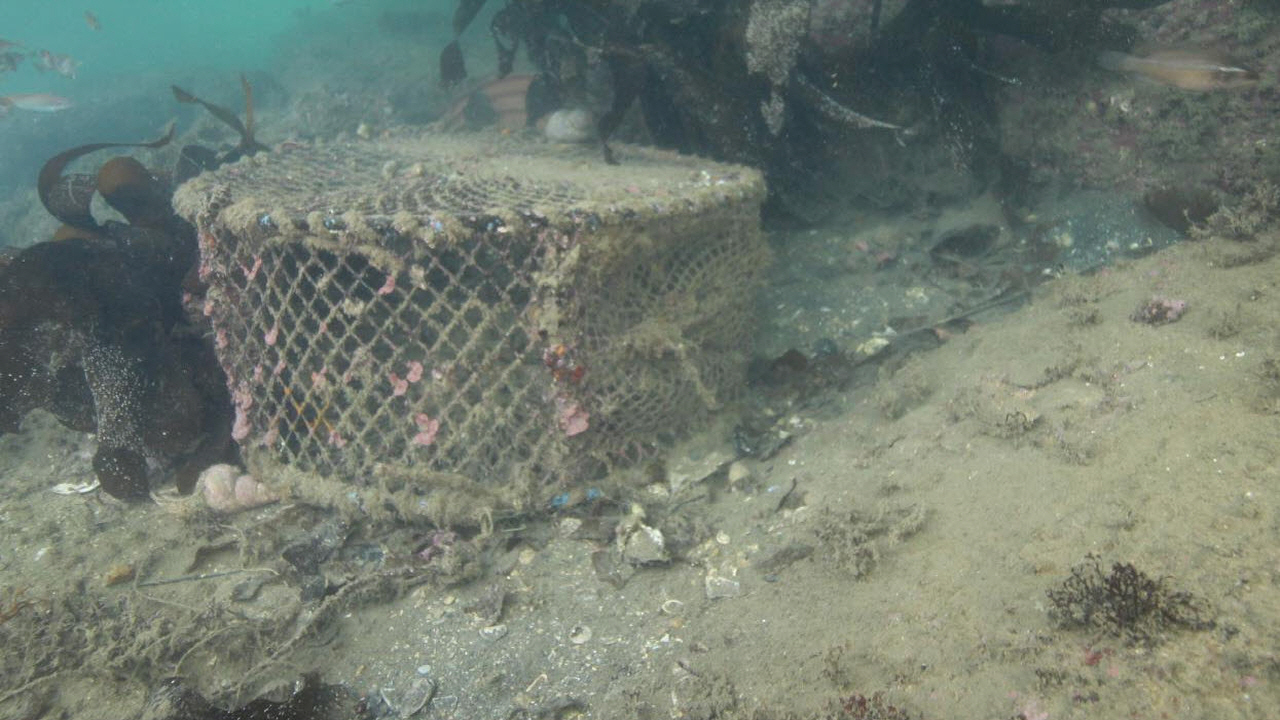circular fish trap: (171, 125, 769, 521)
